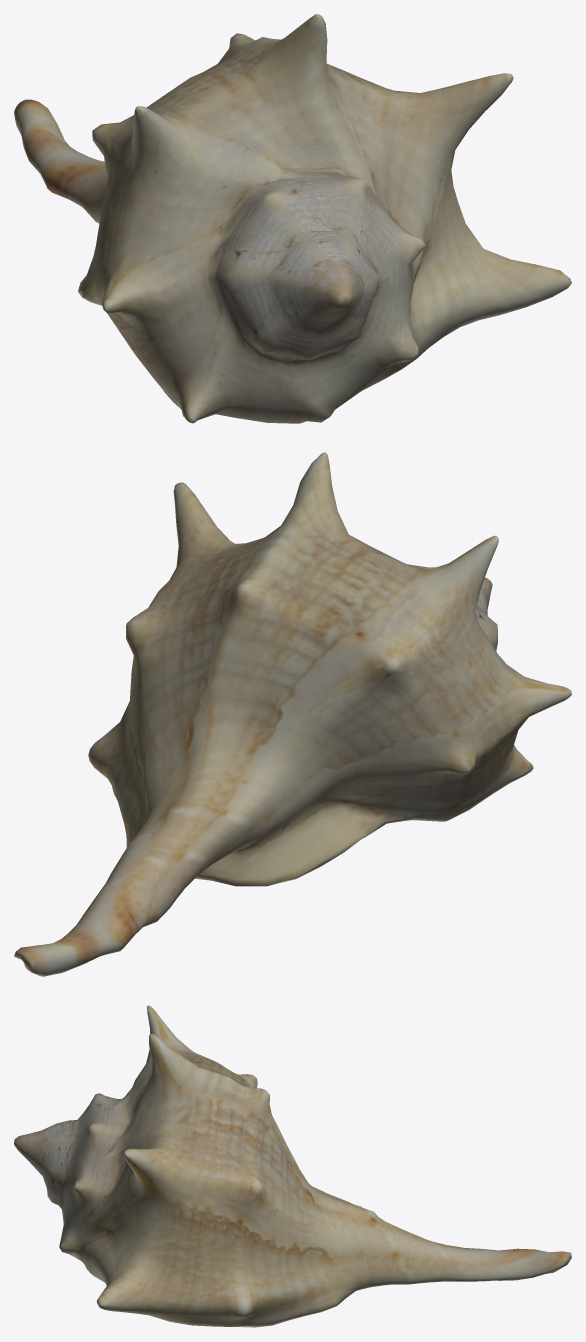
The model's file is seashellPhotogrammetry_edit_for_FBX.fbx.
3 renders of one model, top to bottom at view 1: azimuth 30°, elevation 25°; view 2: azimuth 150°, elevation 25°; view 3: azimuth 270°, elevation 25°, orthographic. The views are drawn at different scales.
Parts seen in each view (by area): view 1: seashellPhotogrammetry; view 2: seashellPhotogrammetry; view 3: seashellPhotogrammetry.
Boxes of the visible parts, x1,y1,x2,y2 form: seashellPhotogrammetry: (14, 14, 571, 423); seashellPhotogrammetry: (14, 452, 571, 976); seashellPhotogrammetry: (14, 1005, 571, 1327).
Size of the model in its own units: 1272 by 991 by 1978.
